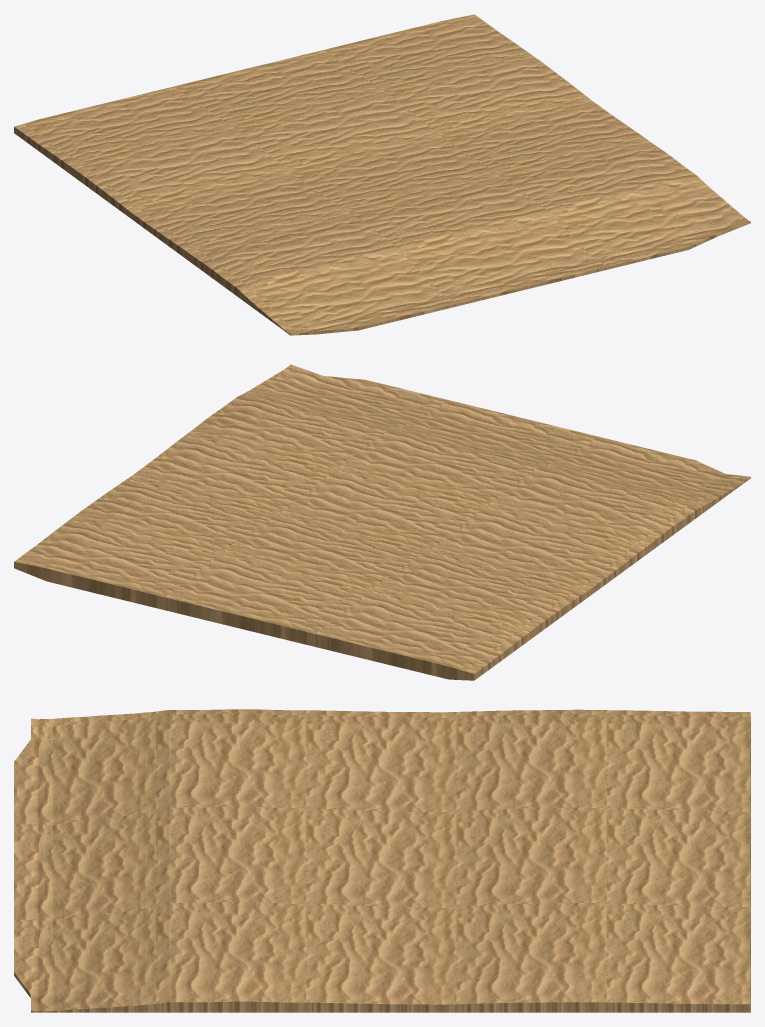
The model's file is Beach.fbx.
3 views of the same model, one above another, from view 1: azimuth 30°, elevation 25°; view 2: azimuth 150°, elevation 25°; view 3: azimuth 270°, elevation 25° (orthographic). The views are drawn at different scales.
Parts seen in each view (by area): view 1: Cube; view 2: Cube; view 3: Cube.
Boxes of the visible parts, bbox=[...] form: Cube: bbox=[14, 14, 750, 335]; Cube: bbox=[14, 364, 750, 680]; Cube: bbox=[14, 709, 750, 1012].
Bounding box in the file's own units: 8134 × 284 × 8667.
